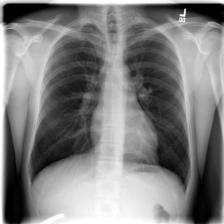normal: (27, 18, 194, 195)
